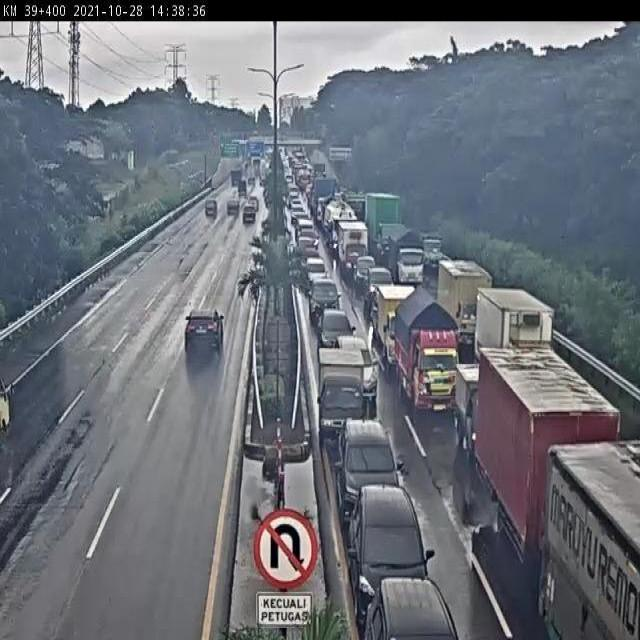big truck: (473, 346, 623, 546), (540, 444, 640, 640), (362, 192, 415, 253)
car: (350, 489, 440, 588), (331, 411, 404, 500), (363, 572, 451, 640), (179, 296, 228, 369), (336, 329, 378, 402), (314, 304, 356, 356), (308, 277, 342, 324), (301, 252, 330, 291), (351, 255, 384, 288), (294, 234, 324, 270), (367, 268, 395, 305), (240, 202, 258, 230), (203, 195, 219, 220), (225, 197, 241, 220)
small truck: (396, 293, 456, 415), (471, 288, 551, 356), (436, 260, 496, 341), (313, 349, 366, 436), (374, 280, 420, 367), (459, 360, 487, 449), (339, 222, 370, 270), (0, 378, 22, 434)
